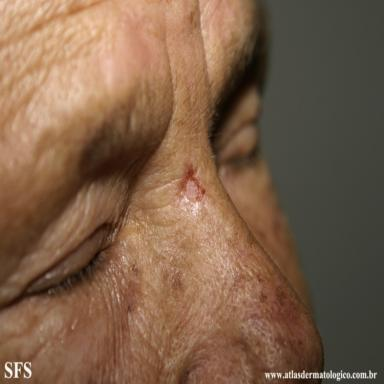basal-cell-carcinoma: (179, 165, 205, 209)
